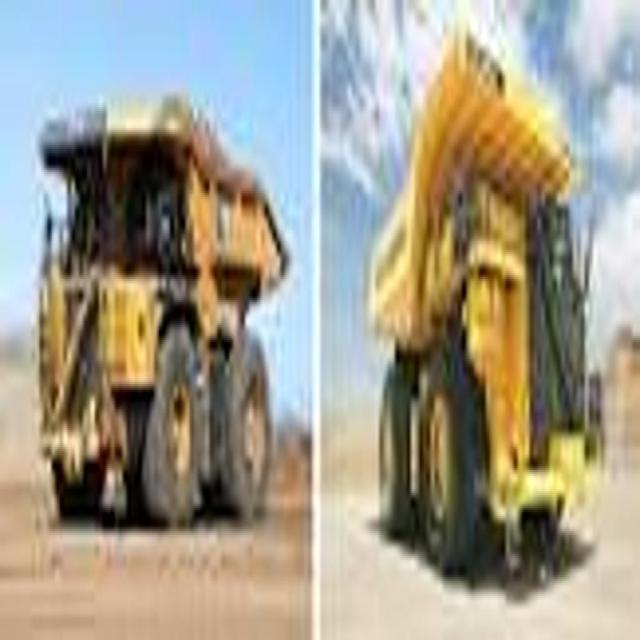dump_truck: (368, 17, 606, 594), (35, 85, 288, 525)
